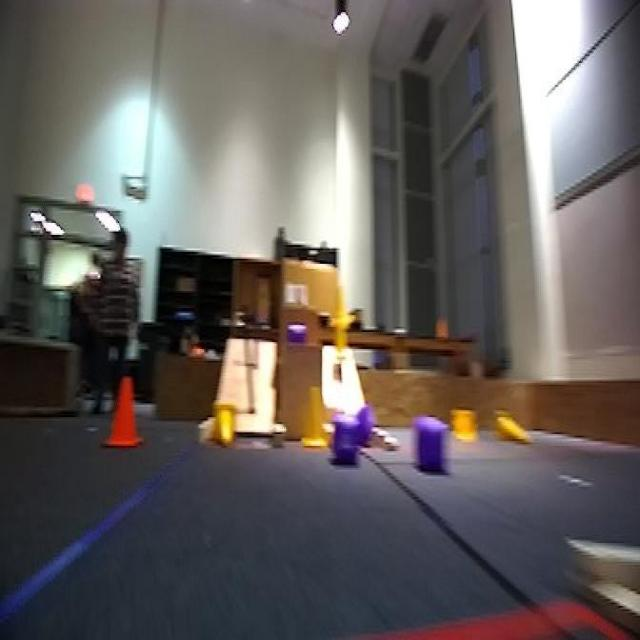frc_cone: (302, 383, 336, 454), (209, 404, 238, 449), (492, 410, 528, 446), (331, 313, 354, 364), (450, 403, 477, 446), (335, 277, 349, 332)
frc_cube: (414, 424, 448, 470), (326, 413, 357, 458), (354, 403, 370, 441), (286, 329, 306, 347)
